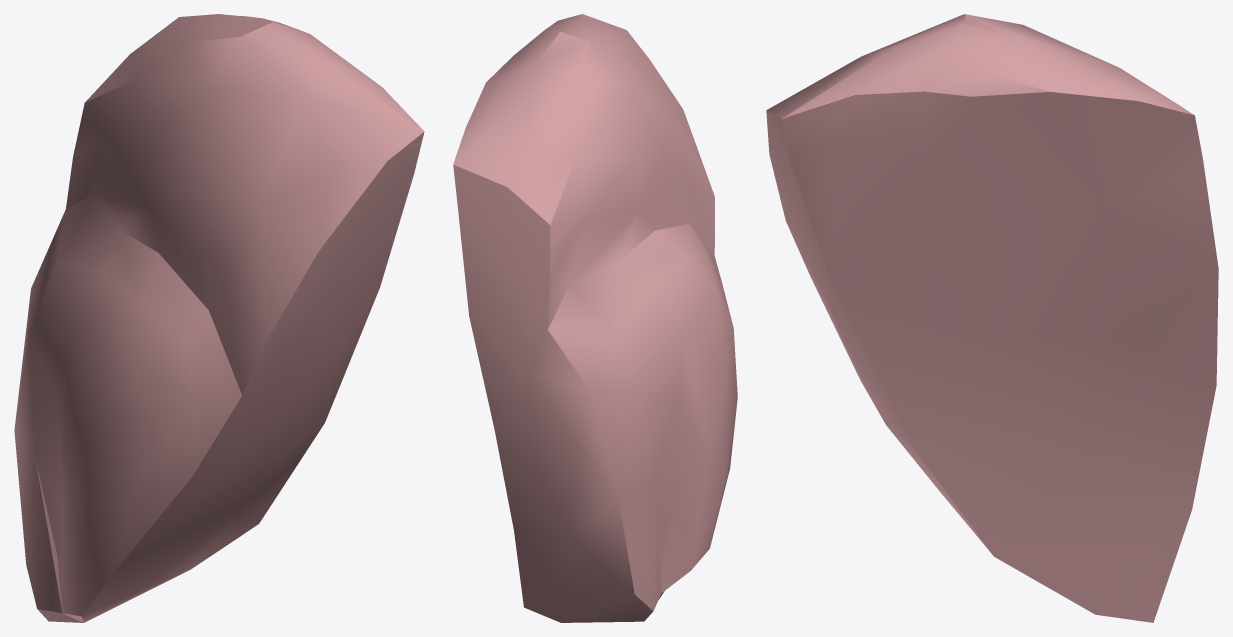
The model's file is fma72729_mm237m.glb.
The picture shows the model from 3 angles, left to right: view 1: azimuth 30°, elevation 25°; view 2: azimuth 150°, elevation 25°; view 3: azimuth 270°, elevation 25°; orthographic projection. The views are drawn at different scales.
Parts seen in each view (by area): view 1: FMA72729_MM237M; view 2: FMA72729_MM237M; view 3: FMA72729_MM237M.
Boxes of the visible parts, x1,y1,x2,y2 form: FMA72729_MM237M: [14, 14, 424, 622]; FMA72729_MM237M: [453, 14, 737, 622]; FMA72729_MM237M: [766, 14, 1218, 622].
Bounding box in the file's own units: 0.00949 × 0.0218 × 0.0141.
